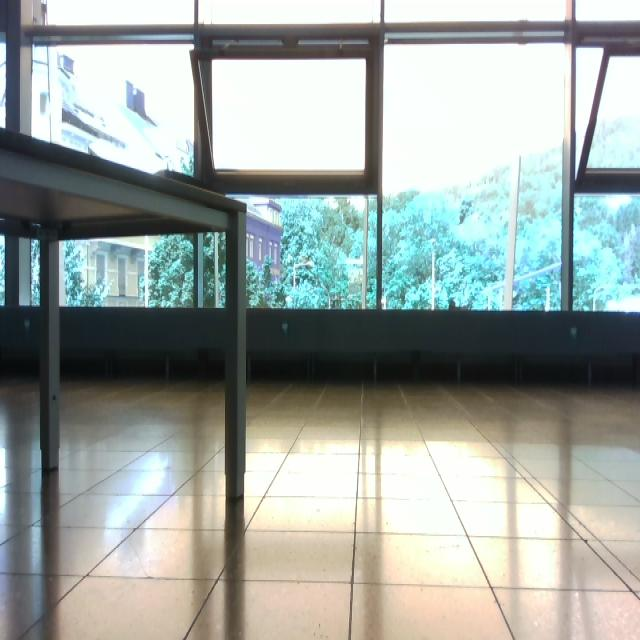light bulb: (293, 260, 314, 309), (40, 90, 49, 116), (285, 296, 293, 309)
pillar: (39, 231, 61, 471)
tiled floor: (1, 376, 639, 638)
window: (2, 1, 639, 316)
